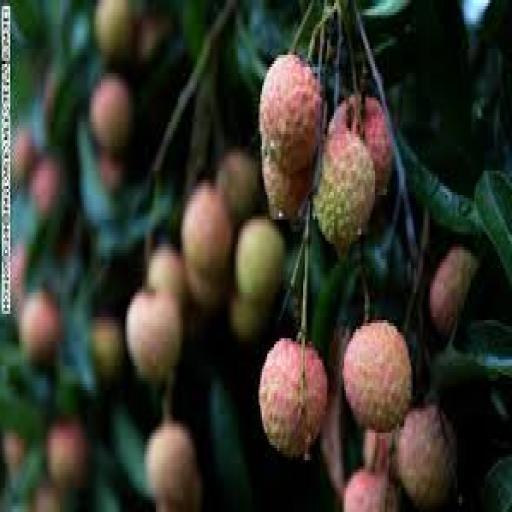lychee: (258, 339, 326, 457), (342, 320, 409, 432), (313, 132, 374, 252), (258, 55, 320, 173), (328, 95, 391, 195), (397, 406, 456, 508), (126, 290, 182, 383), (145, 421, 201, 511), (181, 183, 231, 277), (429, 247, 476, 335), (234, 217, 283, 301), (215, 150, 260, 225), (89, 74, 130, 152), (18, 290, 60, 365), (261, 162, 312, 219), (46, 421, 88, 490), (145, 244, 185, 310), (342, 470, 397, 511), (184, 263, 228, 313), (94, 0, 130, 60), (90, 317, 124, 380), (229, 296, 271, 344), (135, 13, 170, 63), (30, 159, 60, 216), (11, 128, 36, 182), (363, 430, 392, 475), (97, 153, 124, 195), (10, 244, 26, 310), (1, 433, 24, 478), (29, 482, 62, 511)
